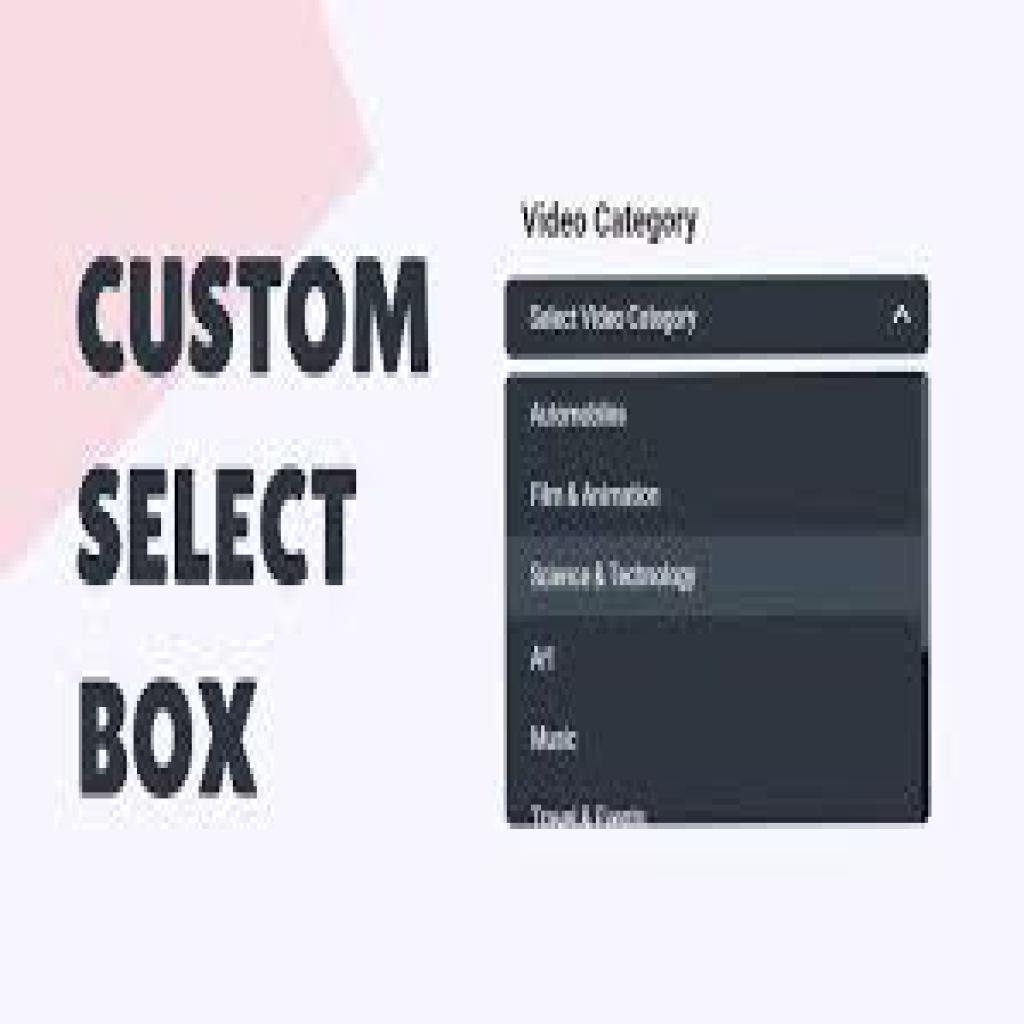dropdown: (504, 276, 930, 357)
